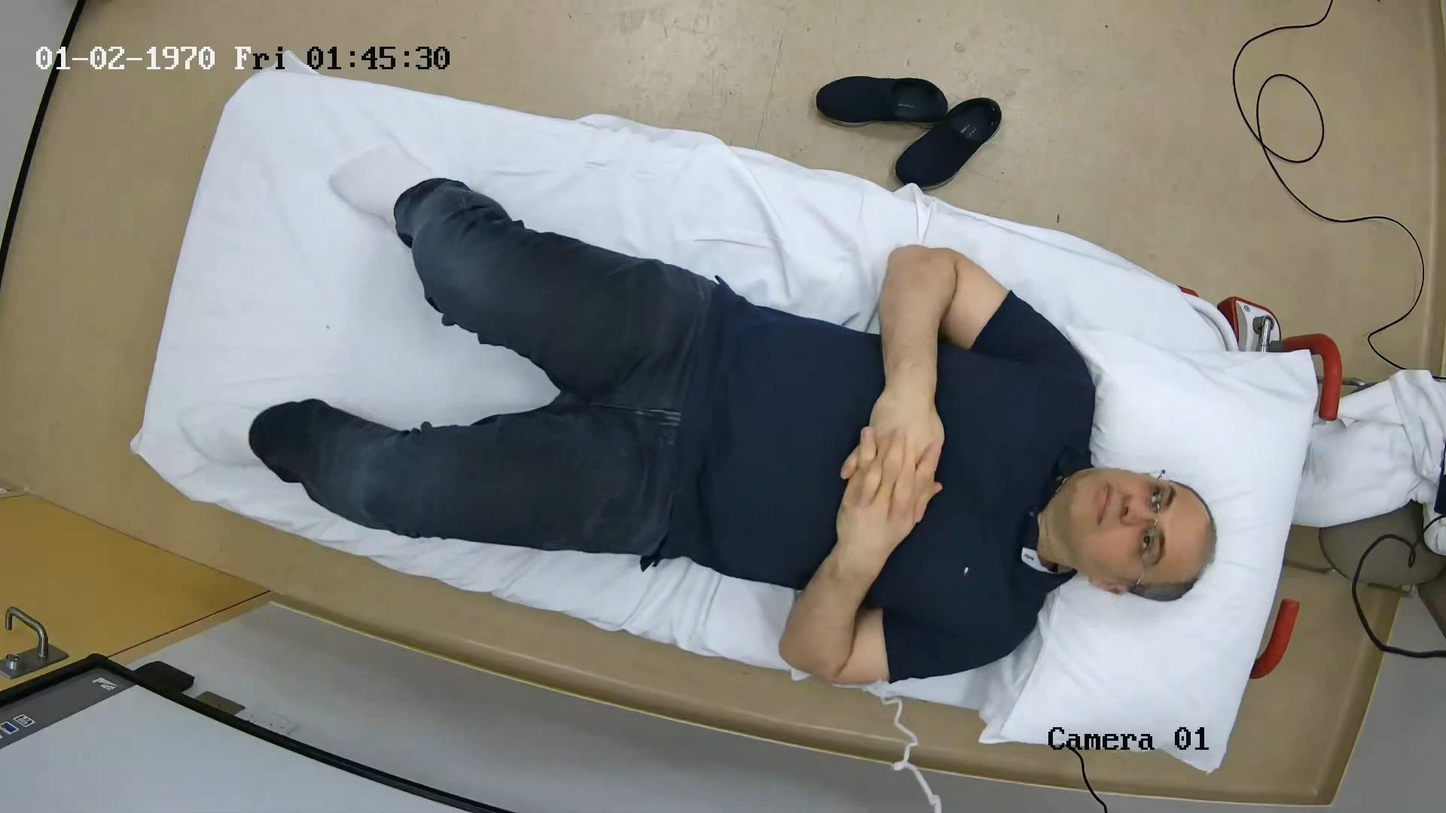bed: (134, 61, 1341, 772)
patient: (250, 178, 1215, 684)
